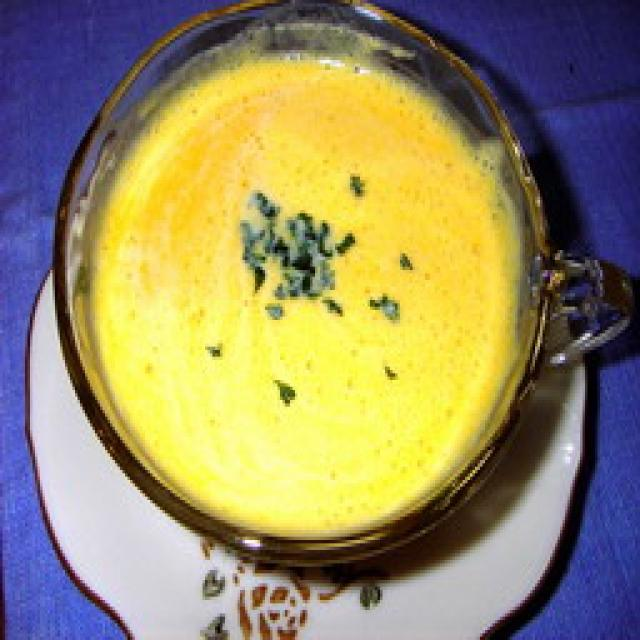汤锅炖物: (50, 0, 547, 553)
